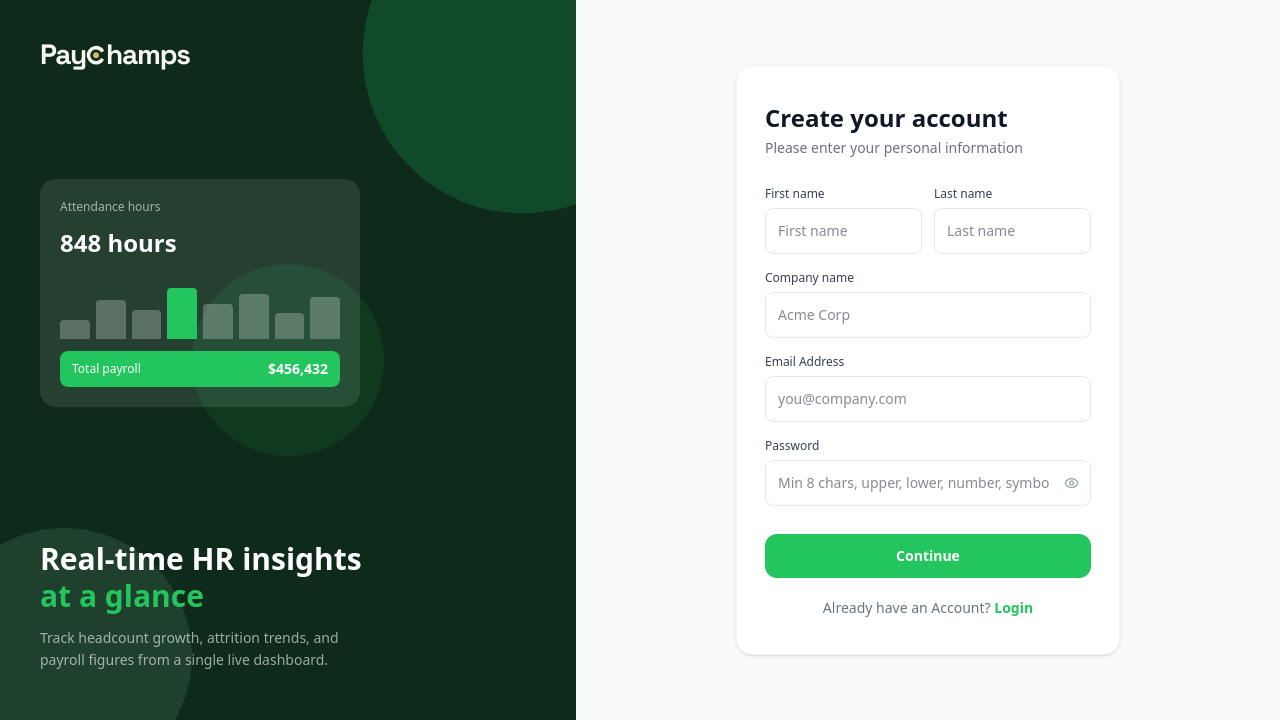
it: Signup page › shows error for duplicate email
This screenshot has width=1280, height=720.
In the field with placeholder "First name": (844, 231) x1=765 y1=208 x2=922 y2=254, type "Ibrahim"
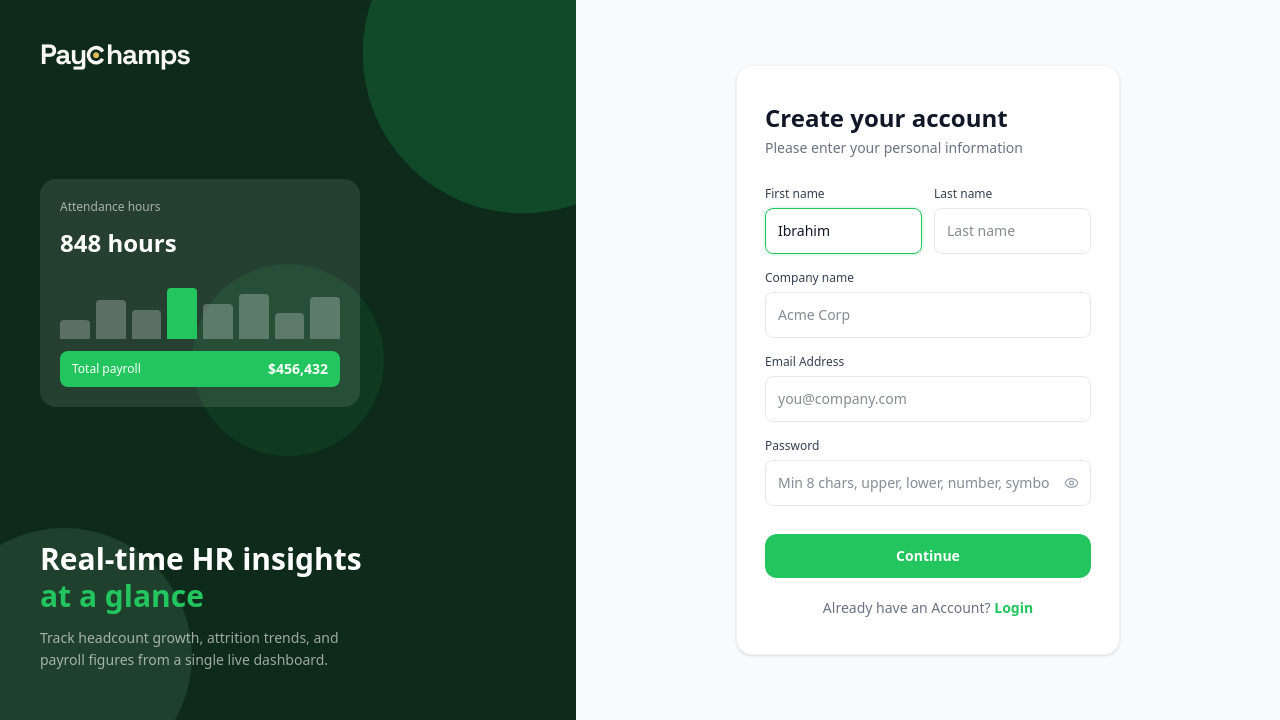
In the field with placeholder "Last name": (1012, 231) x1=934 y1=208 x2=1091 y2=254, type "Oladele"
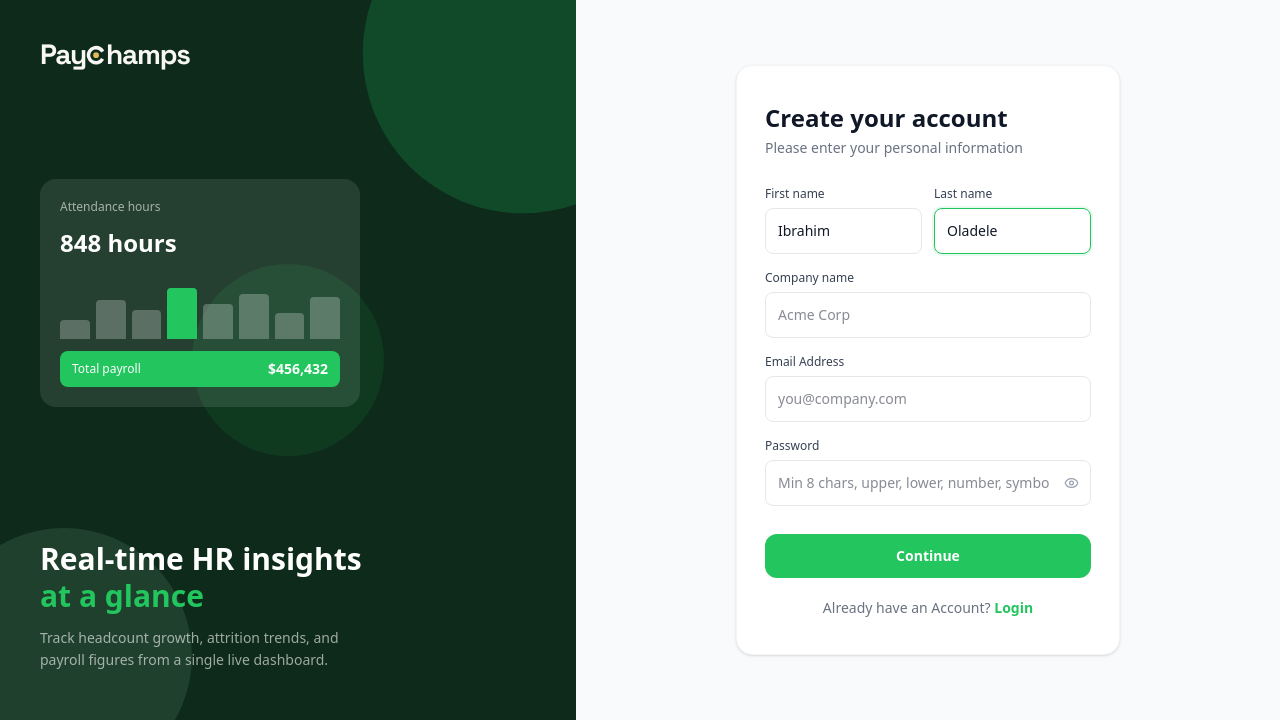
In the field with placeholder "Acme Corp": (928, 315) x1=765 y1=292 x2=1091 y2=338, type "MonsterLabs"
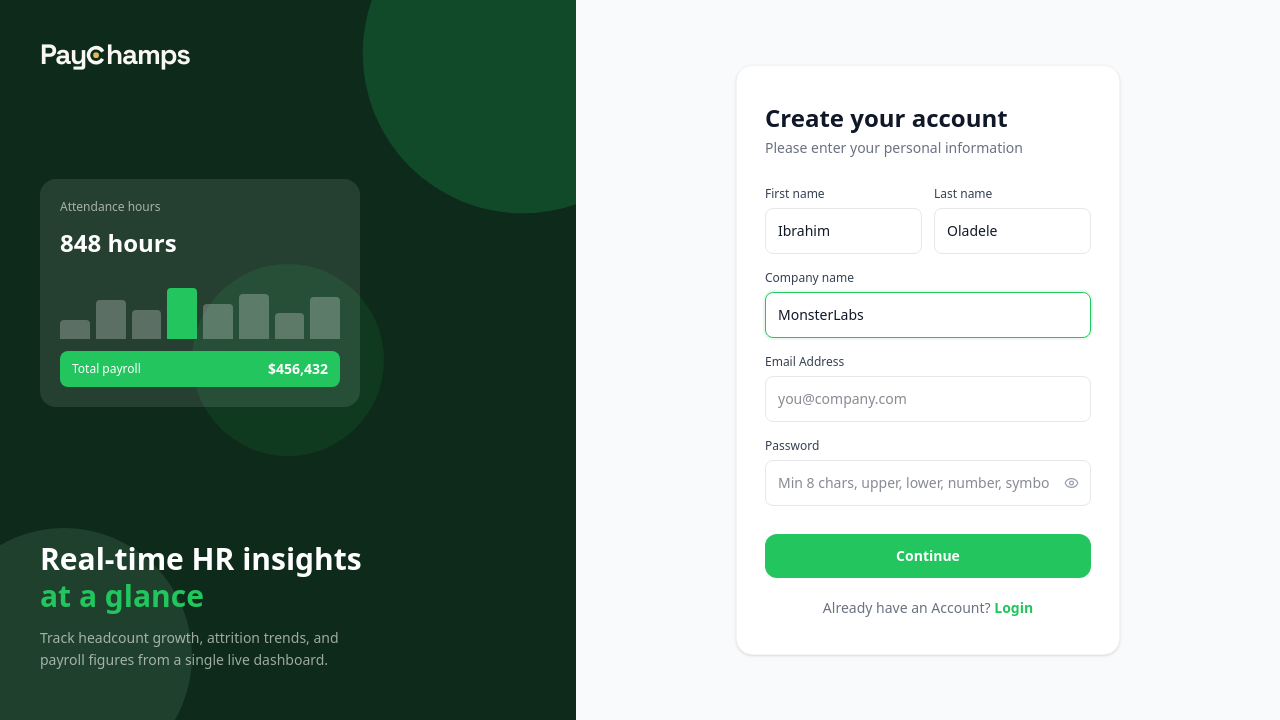
In the field with placeholder "you@company.com": (928, 399) x1=765 y1=376 x2=1091 y2=422, type "ibrahim@monsterlabs.org"
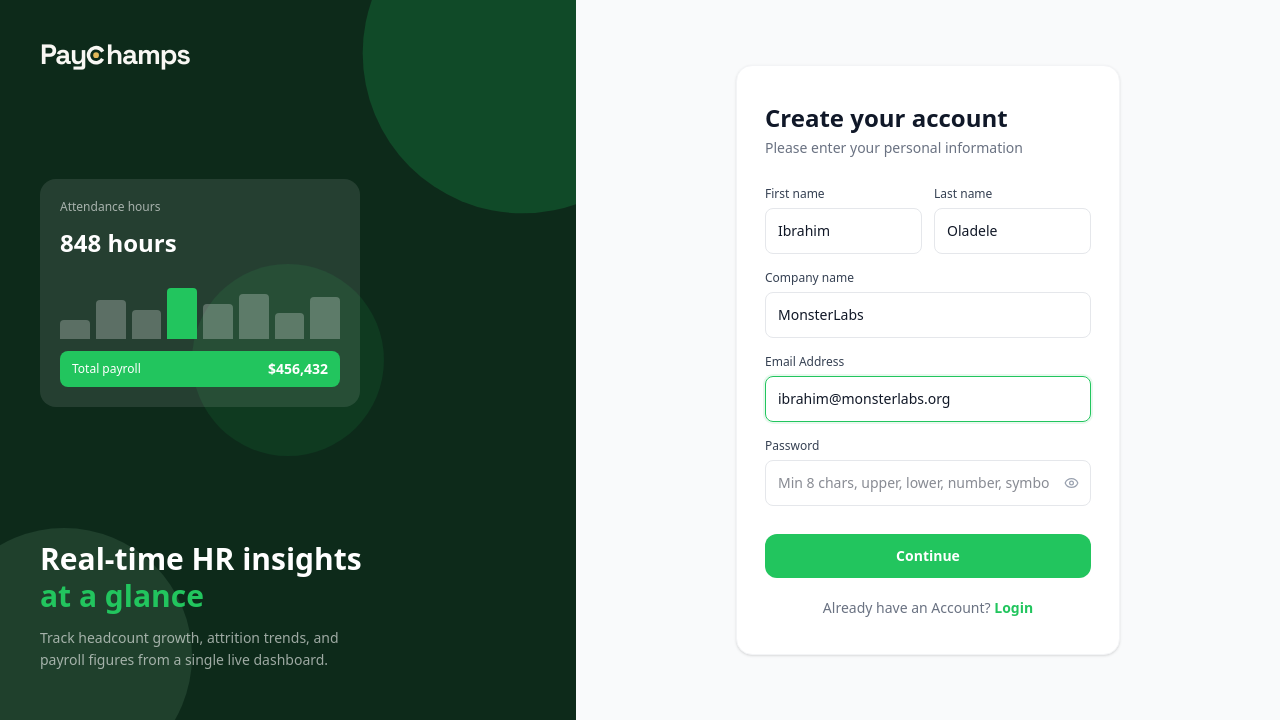
In the password field with placeholder "Min 8 chars, upper, lower, number, symbol": (928, 483) x1=765 y1=460 x2=1091 y2=506, type "Password123!"
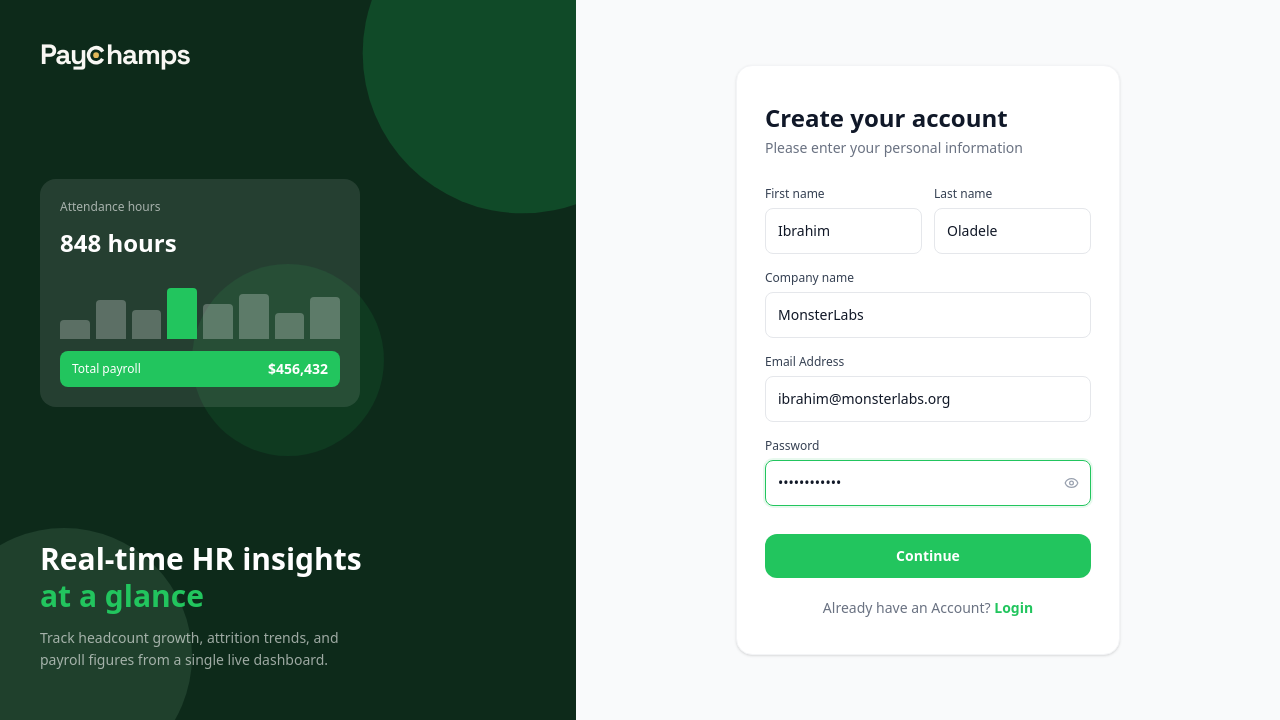
Click the button "Continue": (928, 556) x1=765 y1=534 x2=1091 y2=578
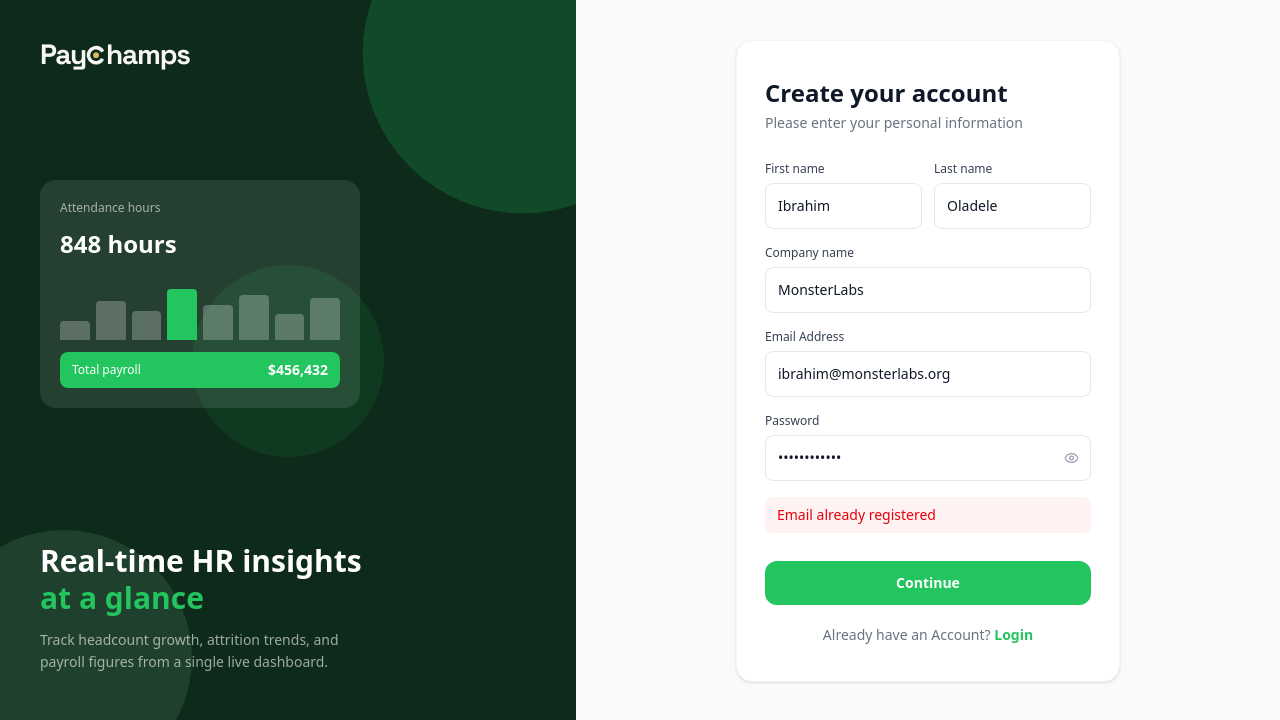
Expected: the text "Email already registered" is shown, x1=765 y1=497 x2=1091 y2=533
